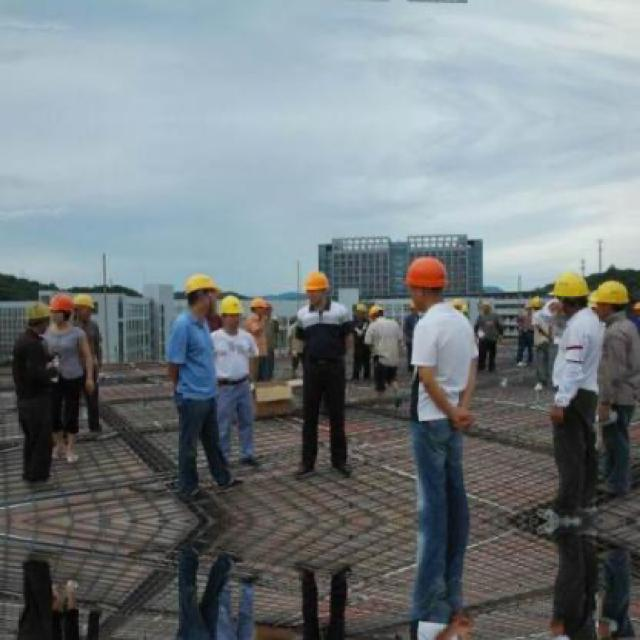con casco: (390, 246, 472, 315), (541, 259, 608, 323), (300, 266, 359, 326), (21, 284, 95, 329), (213, 290, 270, 342), (178, 268, 238, 312), (601, 272, 640, 328)
